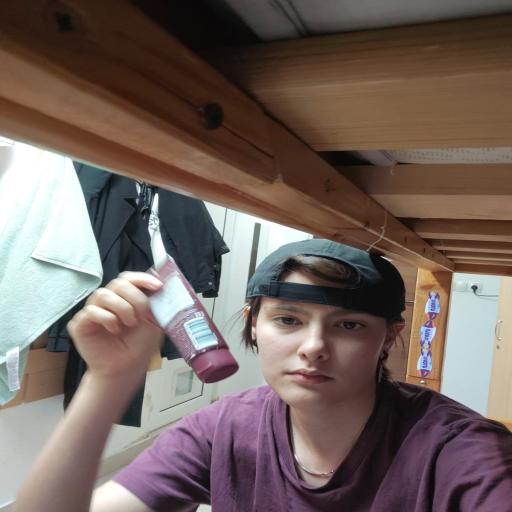Crema Maini: (137, 255, 238, 385)
